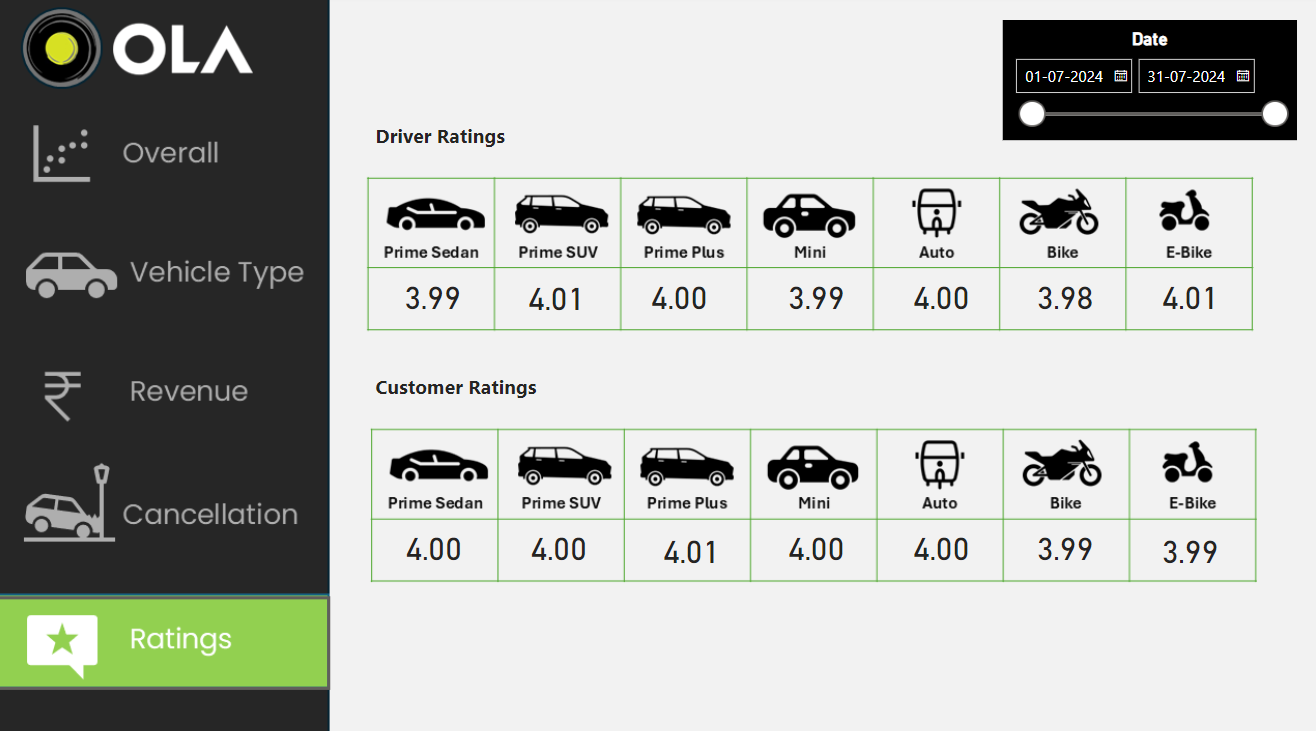

This screenshot's page, from the dashboard's own definition file:
{"tool":"powerbi","page":{"name":"Ratings","canvas":[1280,720],"ordinal":4},"visuals":[{"type":"actionButton","box":[0,580.3,324.5,90.5],"z":0},{"type":"card","fields":{"Values":["Avg(July.Driver_Ratings)"]},"box":[362.8,262.2,120.3,57.2],"z":1},{"type":"card","fields":{"Values":["Avg(July.Driver_Ratings)"]},"box":[483.1,262.2,120.3,59.2],"z":2},{"type":"card","fields":{"Values":["Avg(July.Driver_Ratings)"]},"box":[603.3,262.2,116.3,57.2],"z":3},{"type":"card","fields":{"Values":["Avg(July.Driver_Ratings)"]},"box":[733.5,262.2,120.3,57.2],"z":4},{"type":"card","fields":{"Values":["Avg(July.Driver_Ratings)"]},"box":[853.7,262.2,120.3,57.2],"z":5},{"type":"card","fields":{"Values":["Avg(July.Driver_Ratings)"]},"box":[974,262.2,120.3,57.2],"z":6},{"type":"card","fields":{"Values":["Avg(July.Driver_Ratings)"]},"box":[1094.3,262.2,120.3,57.2],"z":7},{"type":"card","fields":{"Values":["Avg(July.Customer_Rating)"]},"box":[364.8,504.8,120.3,57.2],"z":8},{"type":"textbox","box":[362.8,118.3,151.8,41.4],"z":9},{"type":"card","fields":{"Values":["Avg(July.Customer_Rating)"]},"box":[485,504.8,120.3,57.2],"z":10},{"type":"textbox","box":[362.8,360.8,278,43.4],"z":11},{"type":"card","fields":{"Values":["Avg(July.Customer_Rating)"]},"box":[613.2,506.7,120.3,57.2],"z":12},{"type":"card","fields":{"Values":["Avg(July.Customer_Rating)"]},"box":[733.5,504.8,120.3,57.2],"z":13},{"type":"card","fields":{"Values":["Avg(July.Customer_Rating)"]},"box":[853.7,504.8,120.3,57.2],"z":14},{"type":"card","fields":{"Values":["Avg(July.Customer_Rating)"]},"box":[974,504.8,120.3,57.2],"z":15},{"type":"card","fields":{"Values":["Avg(July.Customer_Rating)"]},"box":[1094.3,506.7,120.3,57.2],"z":16},{"type":"slicer","title":"Date","fields":{"Values":["July.Date"]},"box":[974,23.7,283.9,116.3],"z":17}]}

Visuals, with their boxes in screenshot pixels (x1, y1, x2, y2), scaled from the page's 1280x720 canvas onto the 1316x731 screenshot:
actionButton: 0:589:334:681
card - Avg(July.Driver_Ratings): 373:266:497:324
card - Avg(July.Driver_Ratings): 497:266:620:326
card - Avg(July.Driver_Ratings): 620:266:740:324
card - Avg(July.Driver_Ratings): 754:266:878:324
card - Avg(July.Driver_Ratings): 878:266:1001:324
card - Avg(July.Driver_Ratings): 1001:266:1125:324
card - Avg(July.Driver_Ratings): 1125:266:1249:324
card - Avg(July.Customer_Rating): 375:513:499:571
textbox: 373:120:529:162
card - Avg(July.Customer_Rating): 499:513:622:571
textbox: 373:366:659:410
card - Avg(July.Customer_Rating): 630:514:754:573
card - Avg(July.Customer_Rating): 754:513:878:571
card - Avg(July.Customer_Rating): 878:513:1001:571
card - Avg(July.Customer_Rating): 1001:513:1125:571
card - Avg(July.Customer_Rating): 1125:514:1249:573
"Date" slicer: 1001:24:1293:142
